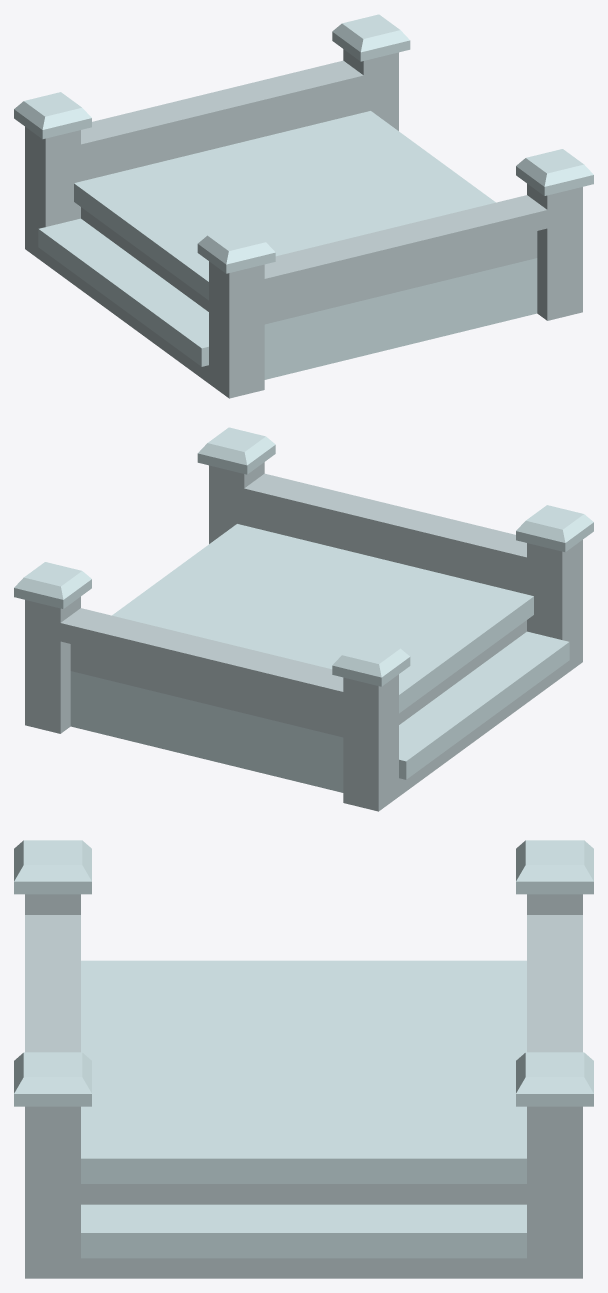
Rendered from bridge_stone.glb.
3 views of the same model, one above another, from view 1: azimuth 30°, elevation 25°; view 2: azimuth 150°, elevation 25°; view 3: azimuth 270°, elevation 25° (orthographic). The views are drawn at different scales.
Parts seen in each view (by area): view 1: bridge_stone; view 2: bridge_stone; view 3: bridge_stone.
Part boxes in pixels (left/top/right/bottom): bridge_stone: left=14, top=14, right=593, bottom=398; bridge_stone: left=14, top=427, right=593, bottom=811; bridge_stone: left=14, top=840, right=593, bottom=1278.
Bounding box in the file's own units: 1.04 × 0.4 × 1.04.
1 material, 1 textured.
